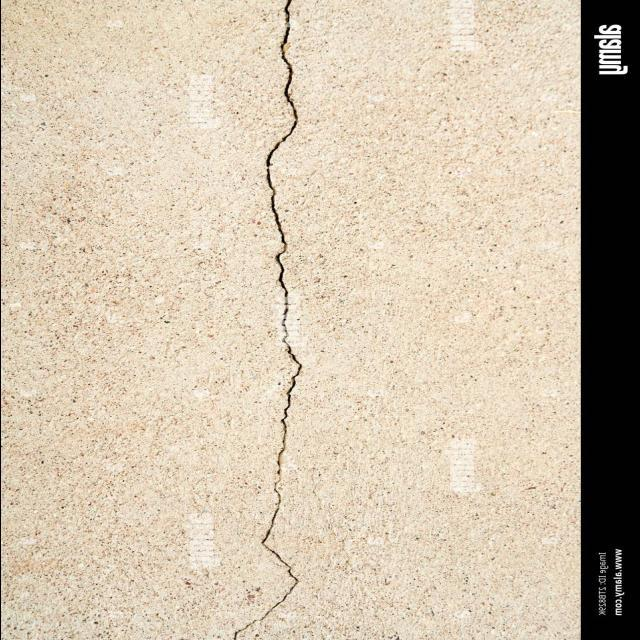Crack: (232, 0, 303, 638)
